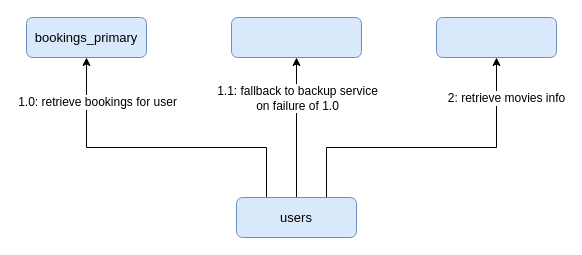
Image size: 582x255. Some labels were removed from this diagram. Each missing label, with the centre of its shape:
"bookings_secondary" goes at [296,37].
"movies" goes at [496,37].
